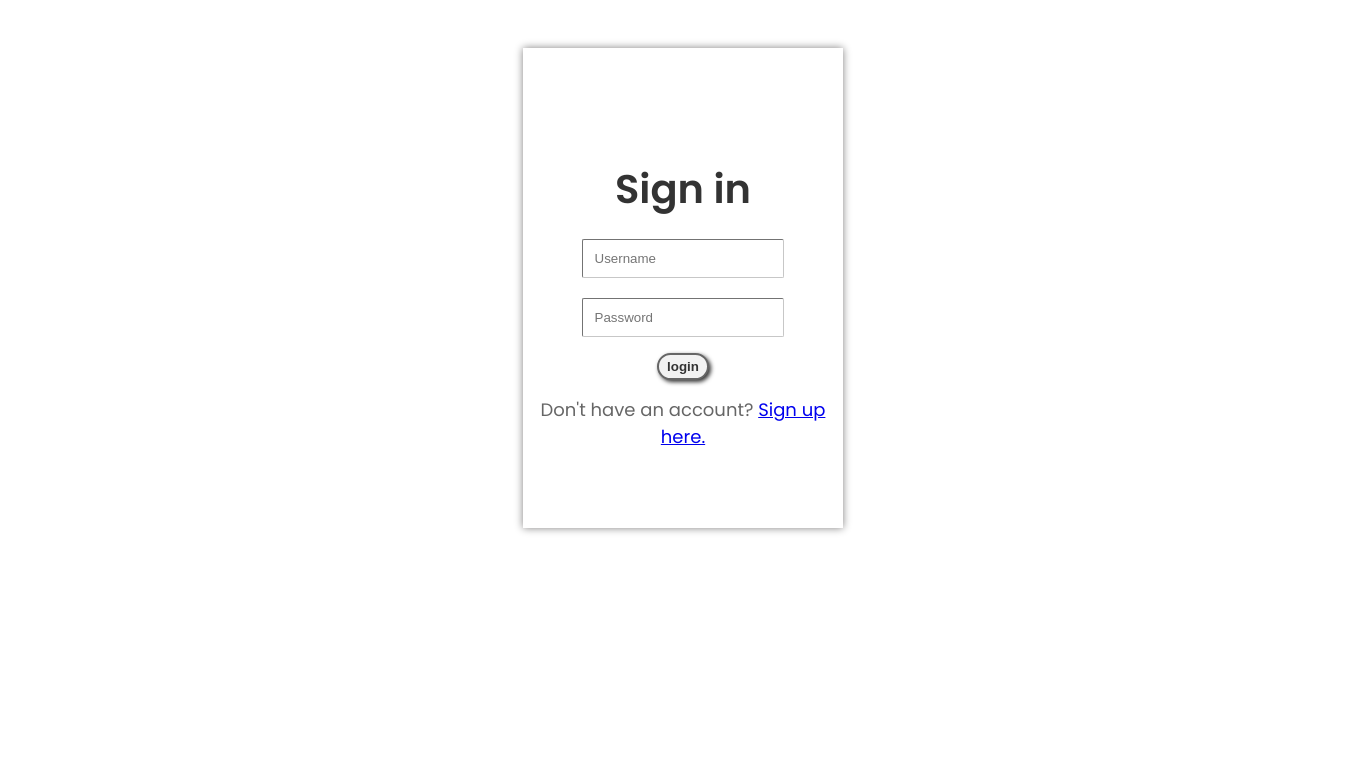
Scenario: <LoginForm /> › handles empty input submission
// Click login without entering username/password
Click the button "login": (683, 367) [657,354,709,380]
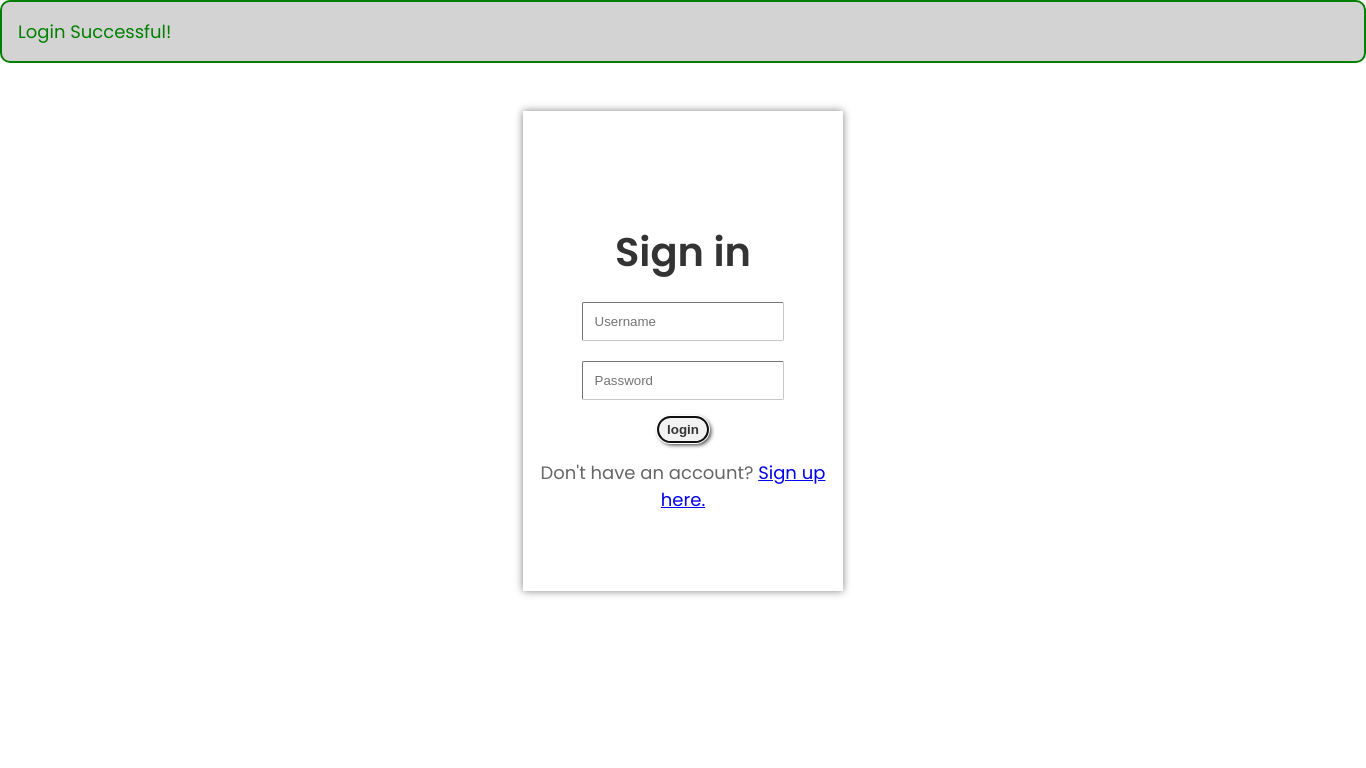
expect the message "Login Successful!" is shown: met, box [0,0,1365,63]
